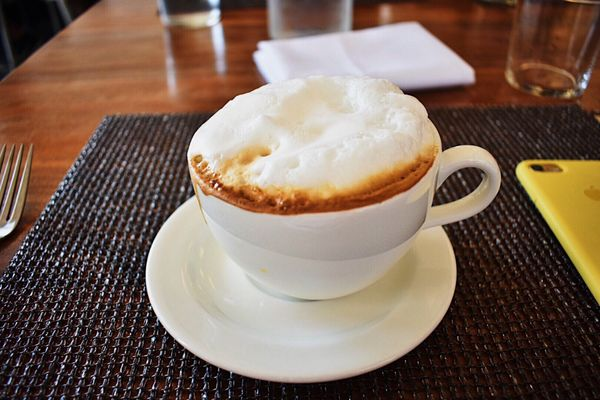burger: (0, 141, 35, 240)
pizza: (187, 72, 503, 301), (503, 0, 600, 100), (266, 0, 355, 39), (158, 0, 222, 27)
